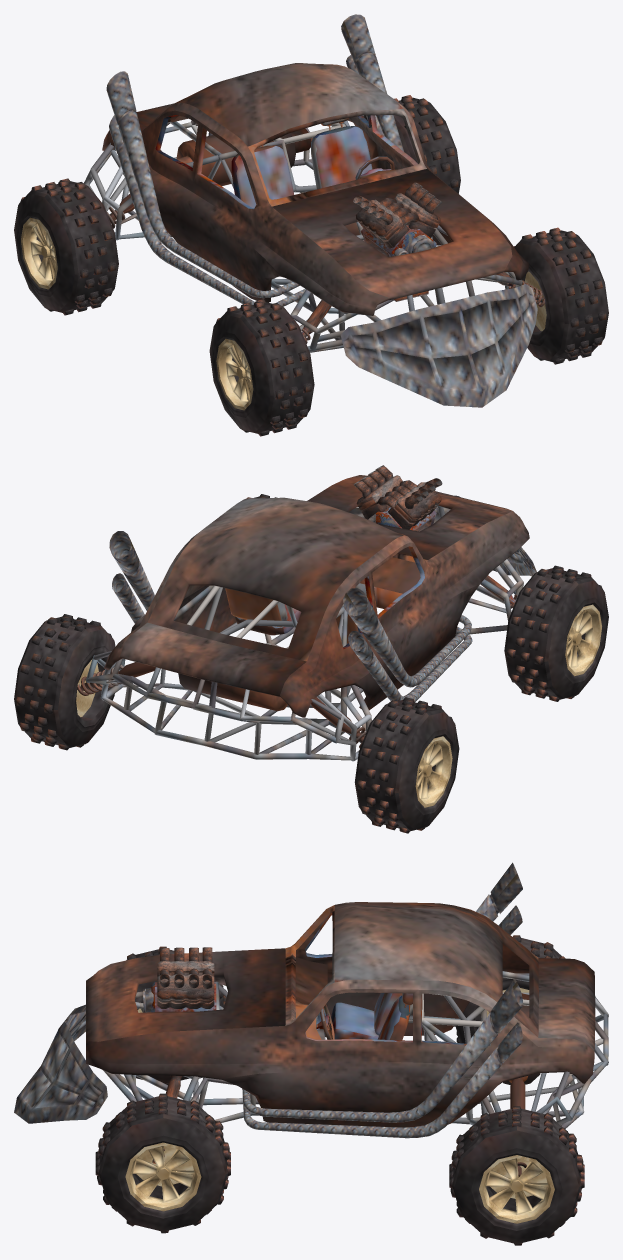
Rendered from Coche_Bueno_01.fbx.
3 renders of one model, top to bottom at view 1: azimuth 30°, elevation 25°; view 2: azimuth 150°, elevation 25°; view 3: azimuth 270°, elevation 25°, orthographic. The views are drawn at different scales.
Parts seen in each view (by area): view 1: Plane.002, Ruerdas_Del_Der, Ruerdas_tra_Der, Ruerdas_Del_izq, Ruerdas_tra_izq; view 2: Plane.002, Ruerdas_Del_Der, Ruerdas_tra_Der, Ruerdas_tra_izq; view 3: Plane.002, Ruerdas_Del_izq, Ruerdas_tra_izq, Ruerdas_tra_Der, Ruerdas_Del_Der.
Part boxes in pixels (x1=…): Plane.002: x1=84, y1=14, x2=544, y2=407; Ruerdas_Del_Der: x1=209, y1=299, x2=314, y2=436; Ruerdas_tra_Der: x1=14, y1=178, x2=118, y2=315; Ruerdas_Del_izq: x1=505, y1=227, x2=608, y2=364; Ruerdas_tra_izq: x1=363, y1=95, x2=460, y2=193; Plane.002: x1=77, y1=465, x2=536, y2=761; Ruerdas_Del_Der: x1=504, y1=565, x2=608, y2=701; Ruerdas_tra_Der: x1=354, y1=697, x2=459, y2=833; Ruerdas_tra_izq: x1=14, y1=614, x2=115, y2=750; Plane.002: x1=14, y1=862, x2=608, y2=1177; Ruerdas_Del_izq: x1=95, y1=1093, x2=230, y2=1233; Ruerdas_tra_izq: x1=449, y1=1106, x2=584, y2=1245; Ruerdas_tra_Der: x1=454, y1=935, x2=565, y2=1043; Ruerdas_Del_Der: x1=126, y1=946, x2=226, y2=1084.
Size of the model in its own units: 895 by 481 by 1131.
